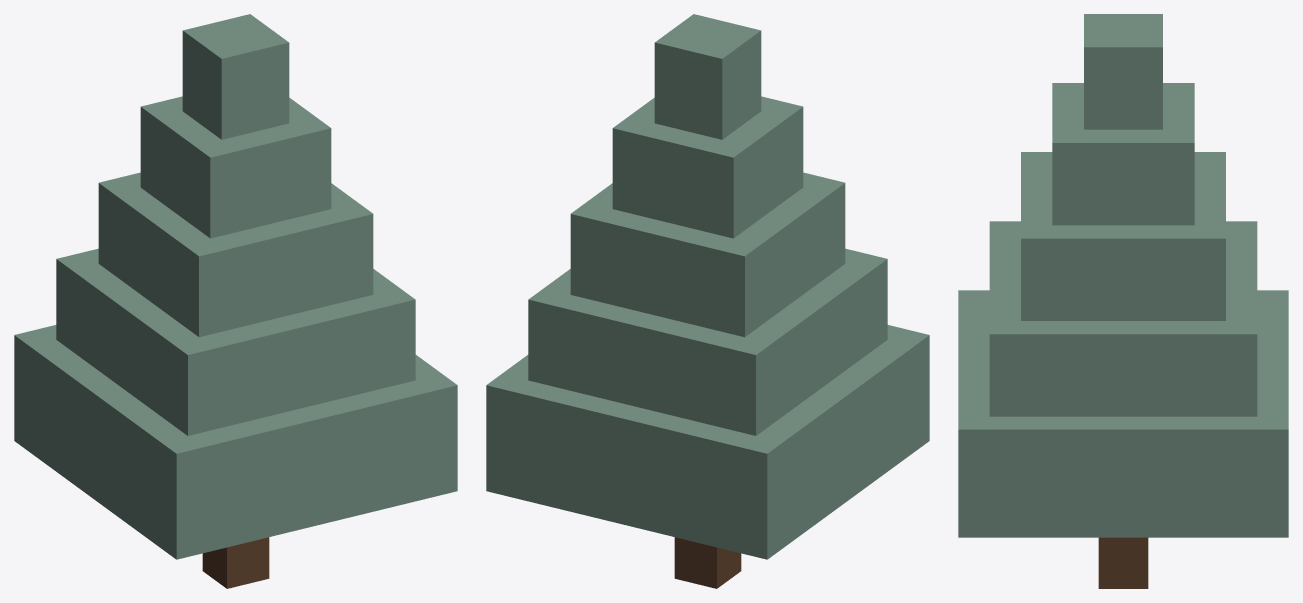
Rendered from pine-frost.glb.
3 views of the same model, side by side, from view 1: azimuth 30°, elevation 25°; view 2: azimuth 150°, elevation 25°; view 3: azimuth 270°, elevation 25° (orthographic).
Visible parts, largest first — view 1: pine-frost; view 2: pine-frost; view 3: pine-frost.
Part boxes in pixels (<box>): pine-frost: <box>14,14,457,588</box>; pine-frost: <box>486,14,929,588</box>; pine-frost: <box>958,14,1288,588</box>.
Bounding box in the file's own units: 2 × 3.66 × 2.
